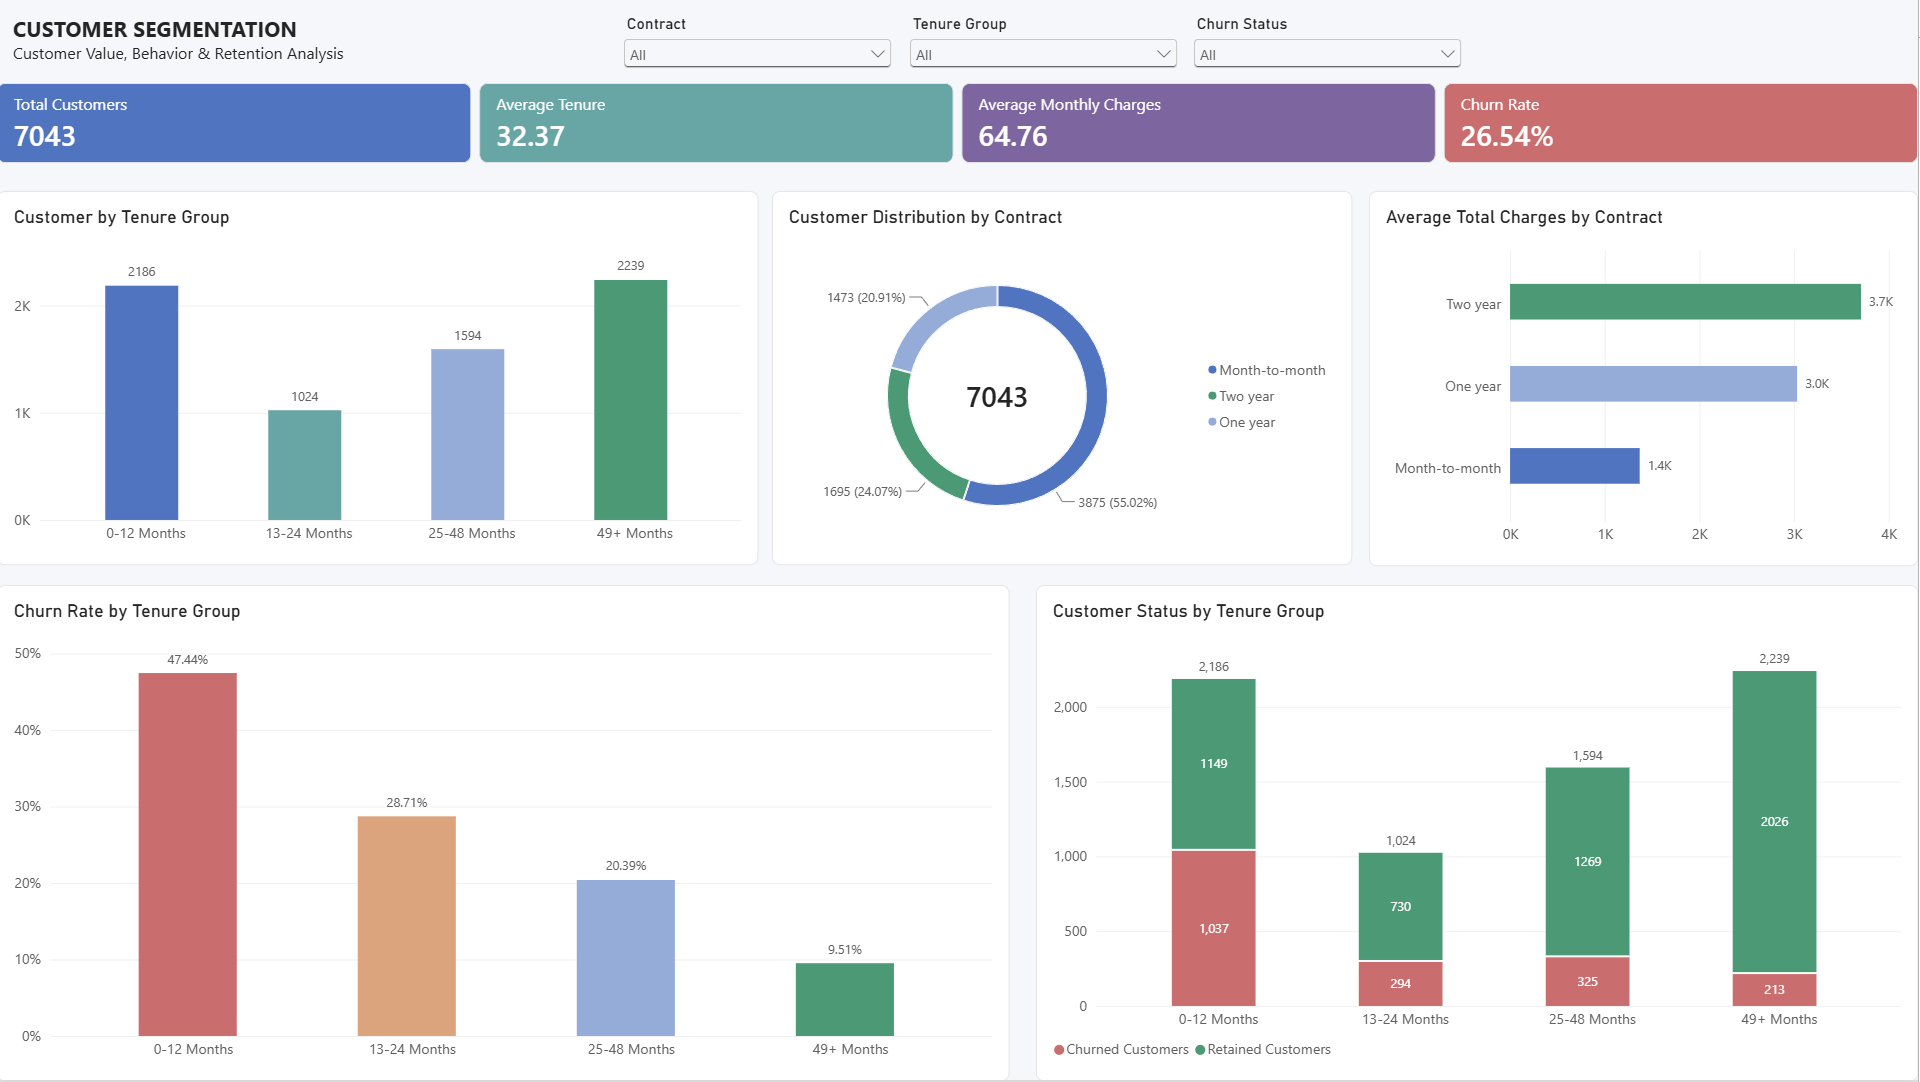

The dashboard page shown, as its layout file describes it:
{"tool":"powerbi","page":{"name":"Page 3","canvas":[1920,1080],"ordinal":2},"visuals":[{"type":"cardVisual","fields":{"Data":["customers.Total Customers","customers.Average Tenure","customers.Average Monthly Charges","customers.Churn Rate"]},"box":[0,83,1920,81],"z":0},{"type":"donutChart","title":"Customer Distribution by Contract","fields":{"Category":["customers.contract"],"Y":["customers.Total Customers"]},"box":[774.6,190.9,579.7,373.8],"z":1000},{"type":"clusteredColumnChart","title":"Churn Rate by Tenure Group","fields":{"Category":["customers.Tenure Group"],"Y":["customers.Churn Rate"]},"box":[0,584.7,1012.5,495.7],"z":2000},{"type":"clusteredColumnChart","title":"Customer by Tenure Group","fields":{"Category":["customers.Tenure Group"],"Y":["customers.Total Customers"]},"box":[0,190.9,760.6,373.8],"z":3000},{"type":"clusteredBarChart","title":"Average Total Charges by Contract","fields":{"Category":["customers.contract"],"Y":["customers.Average Total Charges"]},"box":[1371.3,190.9,548.7,374.8],"z":4000},{"type":"columnChart","title":"Customer Status by Tenure Group","fields":{"Category":["customers.Tenure Group"],"Y":["customers.Churned Customers","customers.Retained Customers"]},"box":[1038.5,584.7,881.5,495.7],"z":5000},{"type":"textbox","box":[16,14,531.7,87],"z":5001},{"type":"slicer","fields":{"Values":["customers.contract"]},"box":[621.7,14,276.9,60],"z":5002},{"type":"slicer","fields":{"Values":["customers.Tenure Group"]},"box":[907.5,14,276.9,60],"z":5003},{"type":"slicer","fields":{"Values":["customers.churn"]},"box":[1191.4,14,276.9,60],"z":5004}]}

Visuals, with their boxes in screenshot pixels (x1, y1, x2, y2), scaled from the page's 1920x1080 canvas onto the 1920x1082 screenshot:
cardVisual - customers.Total Customers x customers.Average Tenure: x1=0, y1=83, x2=1919, y2=164
"Customer Distribution by Contract" donutChart: x1=775, y1=191, x2=1354, y2=566
"Churn Rate by Tenure Group" clusteredColumnChart: x1=0, y1=586, x2=1012, y2=1081
"Customer by Tenure Group" clusteredColumnChart: x1=0, y1=191, x2=761, y2=566
"Average Total Charges by Contract" clusteredBarChart: x1=1371, y1=191, x2=1919, y2=567
"Customer Status by Tenure Group" columnChart: x1=1038, y1=586, x2=1919, y2=1081
textbox: x1=16, y1=14, x2=548, y2=101
slicer - customers.contract: x1=622, y1=14, x2=899, y2=74
slicer - customers.Tenure Group: x1=908, y1=14, x2=1184, y2=74
slicer - customers.churn: x1=1191, y1=14, x2=1468, y2=74
